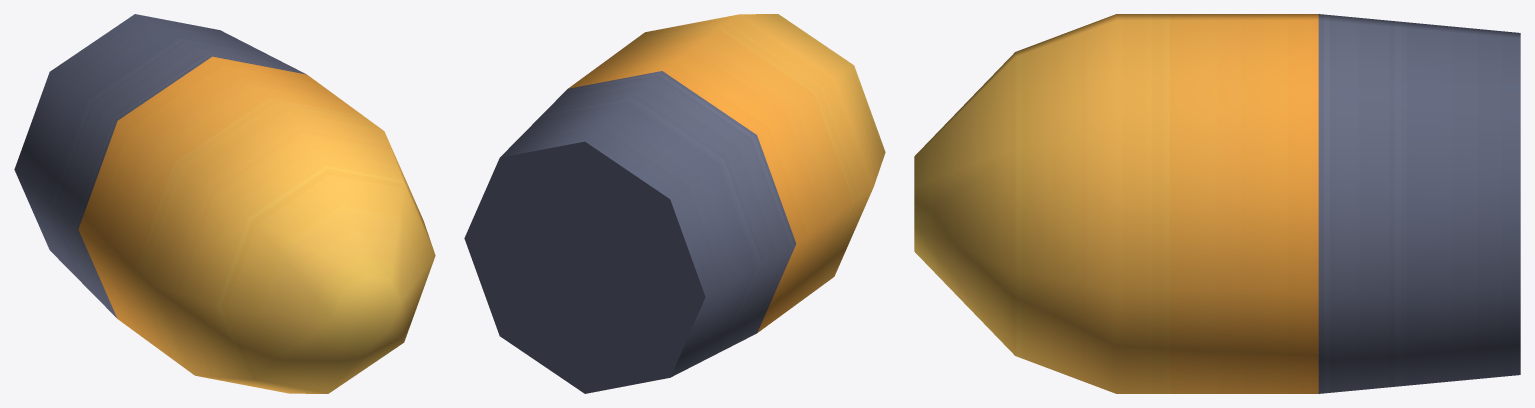
Rendered from weapon-ammo-bullet.glb.
3 views of the same model, side by side, from view 1: azimuth 30°, elevation 25°; view 2: azimuth 150°, elevation 25°; view 3: azimuth 270°, elevation 25° (orthographic). The views are drawn at different scales.
Parts seen in each view (by area): view 1: weapon-ammo-bullet; view 2: weapon-ammo-bullet; view 3: weapon-ammo-bullet.
Part boxes in pixels (<box>): weapon-ammo-bullet: <box>14,14,435,393</box>; weapon-ammo-bullet: <box>464,14,885,393</box>; weapon-ammo-bullet: <box>914,14,1520,393</box>.
Size of the model in its own units: 0.2 by 0.2 by 0.3.
1 material, 1 textured.
